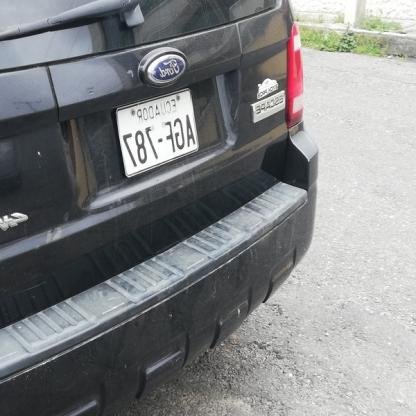Placa: (115, 85, 200, 180)
